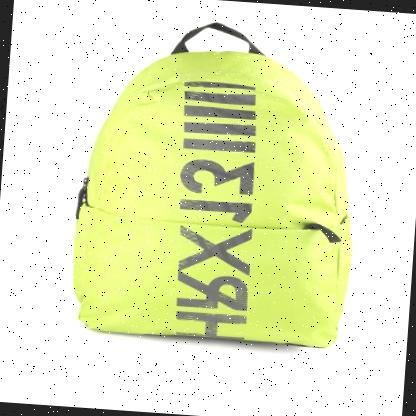bag: (61, 28, 368, 355)
